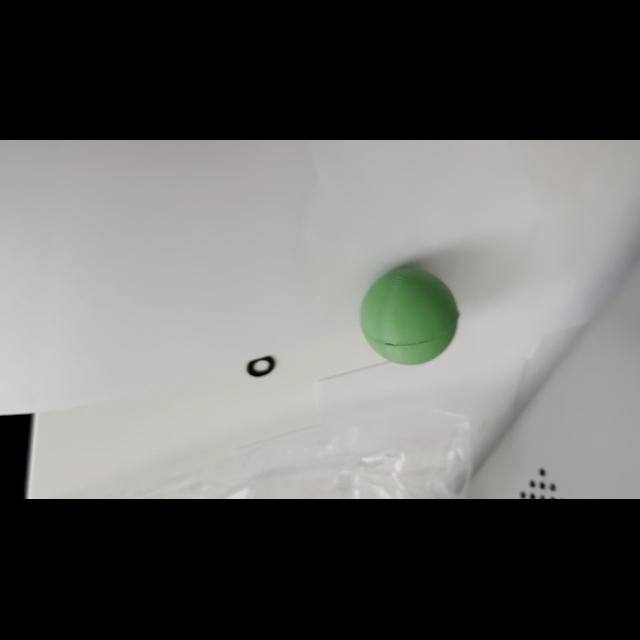objects: (358, 263, 462, 367)
